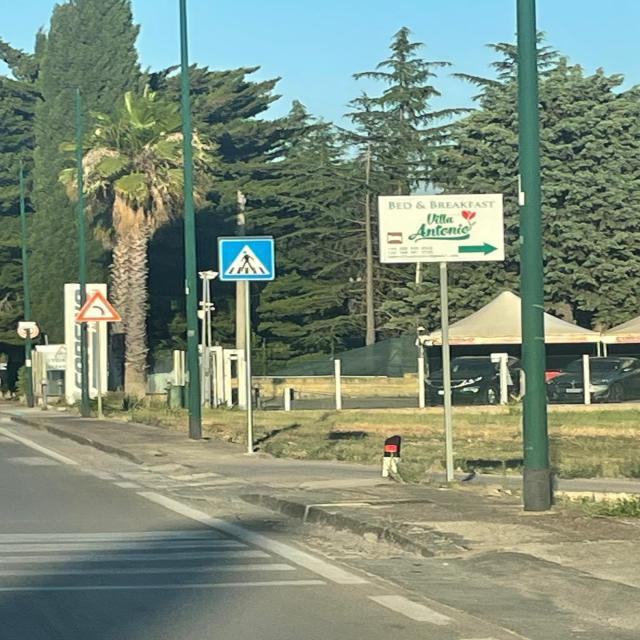info_crosswalk: (220, 239, 275, 281)
warn_left_curve: (76, 289, 122, 322)
